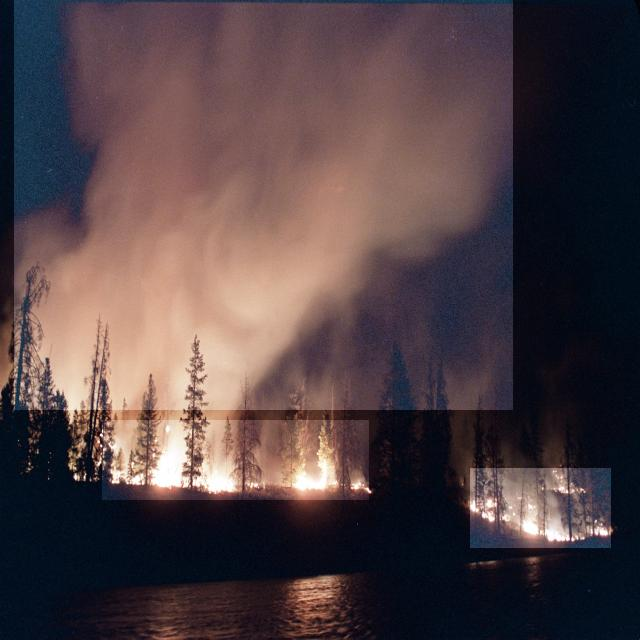Fire: (102, 420, 369, 500), (470, 468, 611, 548)
Smoke: (14, 0, 513, 410)
